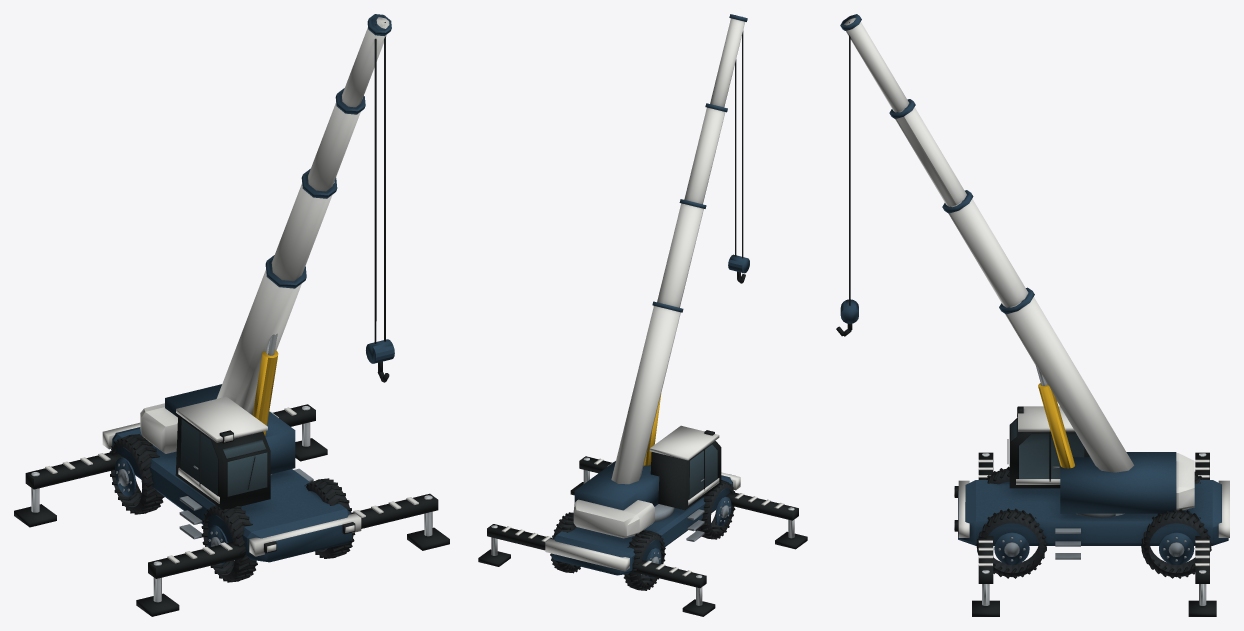
The model's file is mobile_crane.lod1.obj.
The picture shows the model from 3 angles, left to right: view 1: azimuth 30°, elevation 25°; view 2: azimuth 150°, elevation 25°; view 3: azimuth 270°, elevation 25°; orthographic projection. The views are drawn at different scales.
Parts seen in each view (by area): view 1: mobile_crane; view 2: mobile_crane; view 3: mobile_crane.
Part boxes in pixels (<box>): mobile_crane: <box>14,14,449,616</box>; mobile_crane: <box>478,14,807,616</box>; mobile_crane: <box>836,14,1229,616</box>.
Bounding box in the file's own units: 7.6 × 14.95 × 9.81.
1 material, 1 textured.
